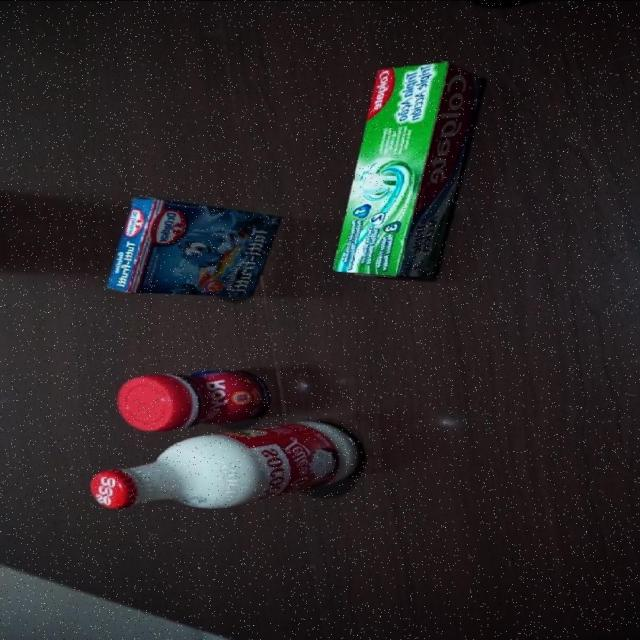CoconutMilk: (89, 424, 364, 508)
Gelatine: (106, 196, 279, 299)
Toothpaste: (332, 59, 491, 281)
Yeast: (116, 370, 273, 428)
